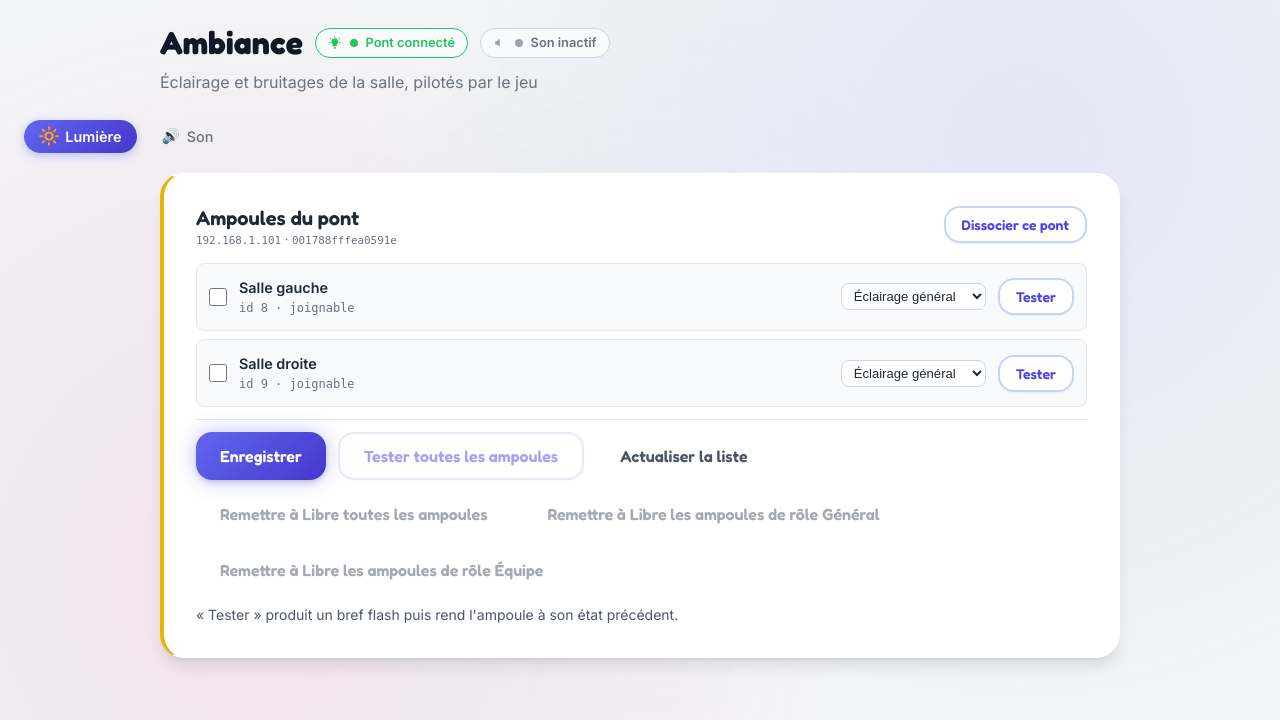
Test: AmbiancePage — point 3 : 3 boutons « Remettre à Libre » à portées disjointes › « Général » s'active dès qu'un rôle "général" est explicitement choisi (même sans jamais enregistrer)
This screenshot has width=1280, height=720.
Expected: the text "Salle gauche" is shown, 239,279 -> 328,296
Click the checkbox labelled "Salle gauche". click: (218, 297)
box: 209,288 -> 227,306
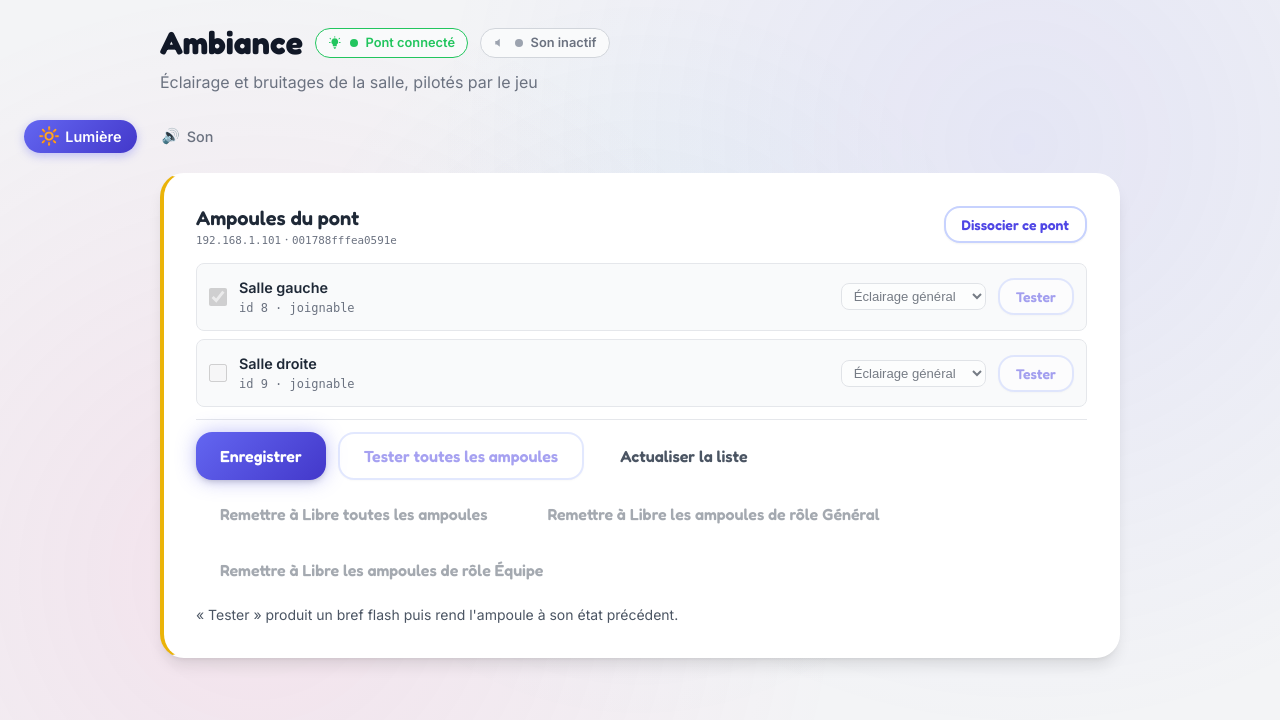
Select "Éclairage général" in the dropdown named "Rôle de Salle gauche". click: (913, 297)
box: 841,283 -> 986,310
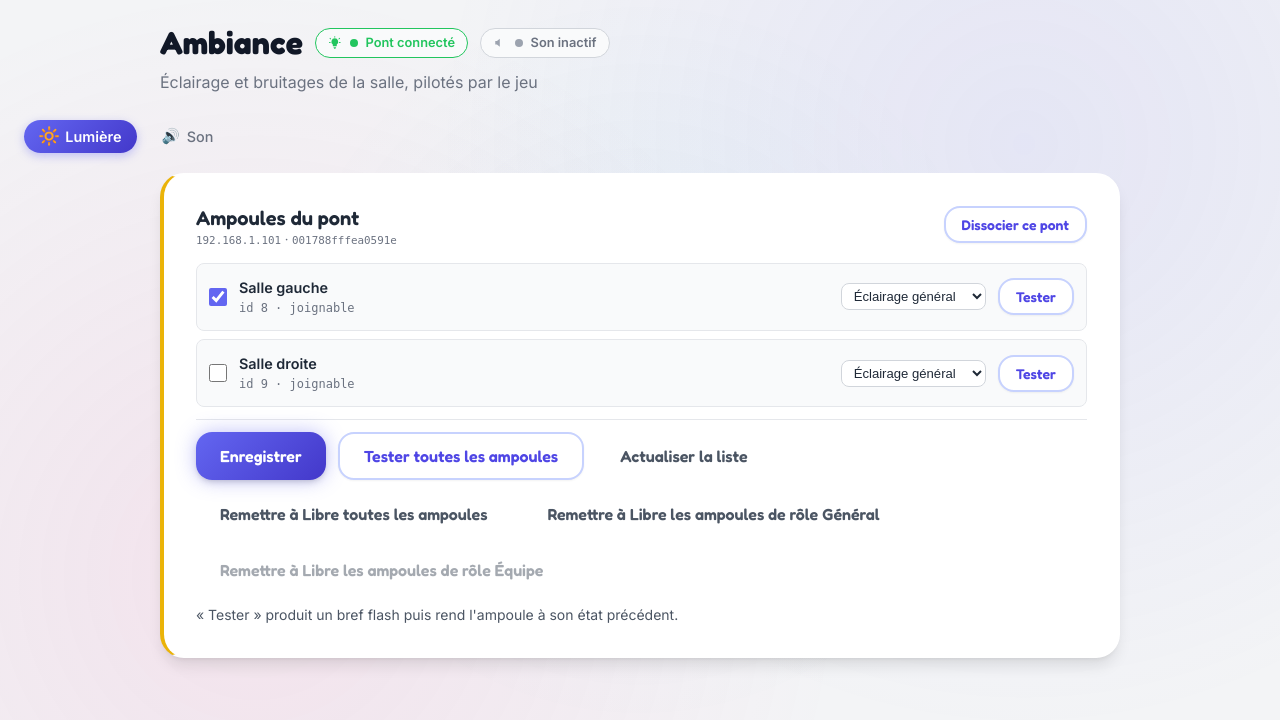
Expected: the button "Remettre à Libre les ampoules de rôle Équipe" is disabled, 196,548 -> 567,592
Expected: the button "Remettre à Libre les ampoules de rôle Général" is enabled, 524,492 -> 904,536
